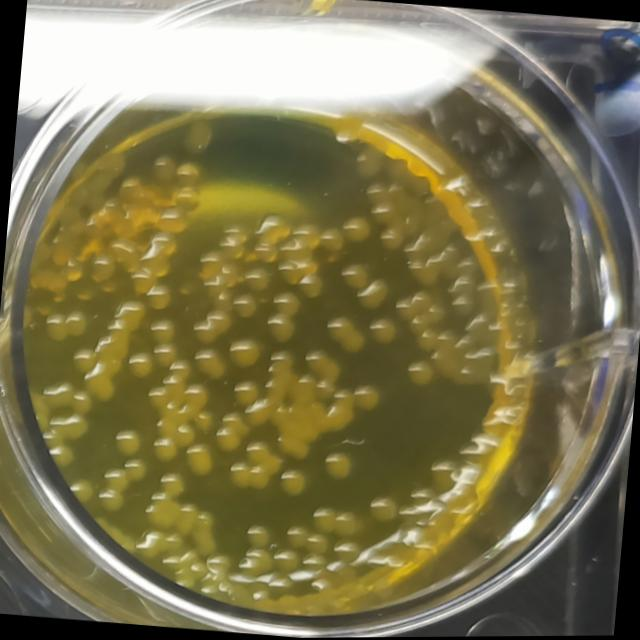vibrio: (84, 297, 146, 405), (323, 314, 368, 356), (192, 306, 232, 345), (301, 347, 342, 385), (311, 505, 358, 538), (44, 306, 88, 341), (226, 460, 270, 493), (225, 336, 262, 371), (318, 449, 354, 484), (192, 346, 228, 381), (352, 380, 387, 415), (182, 442, 215, 478), (48, 412, 87, 441), (265, 311, 299, 344), (156, 204, 190, 237), (340, 213, 373, 246), (271, 543, 304, 576), (366, 315, 398, 348), (404, 358, 436, 391), (366, 494, 398, 525), (111, 425, 142, 457), (277, 467, 307, 499), (156, 469, 188, 499), (230, 379, 260, 409), (150, 436, 181, 465), (144, 281, 173, 311), (119, 455, 149, 484), (96, 485, 126, 513), (340, 263, 369, 291), (147, 317, 175, 345), (231, 292, 259, 320), (148, 342, 176, 370), (125, 350, 154, 377), (272, 290, 302, 316), (297, 273, 323, 300), (71, 346, 97, 373), (101, 469, 129, 493)
